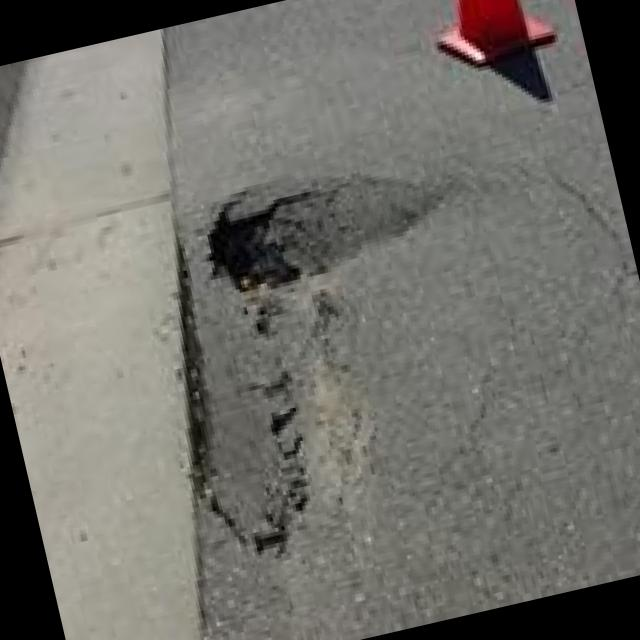Potholes: (150, 113, 480, 338)
